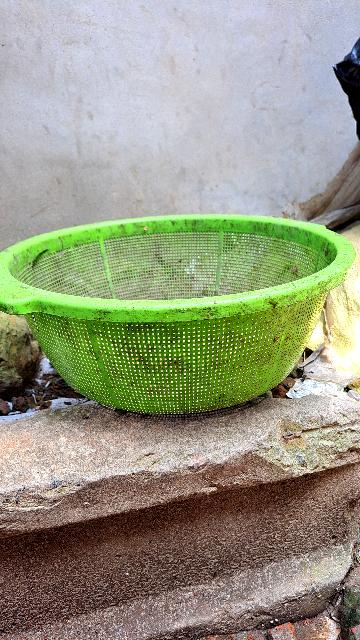hardplastic: (9, 223, 354, 412)
